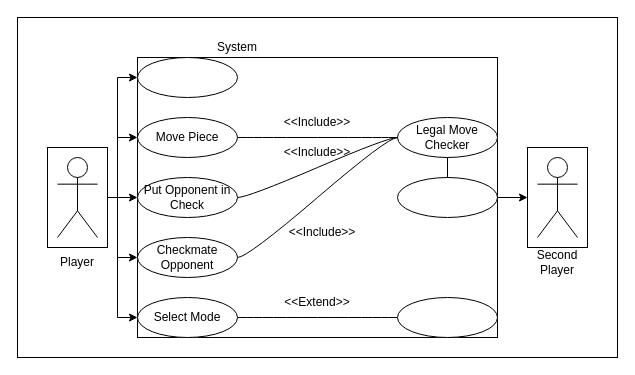
The diagram is 635 pixels wide and 375 high, and some of its shapes have lost their labels. Each missing label, with the centre of its shape:
Begin Game: the point at 187,77
End of Move: the point at 447,197
Exit Game: the point at 447,317
